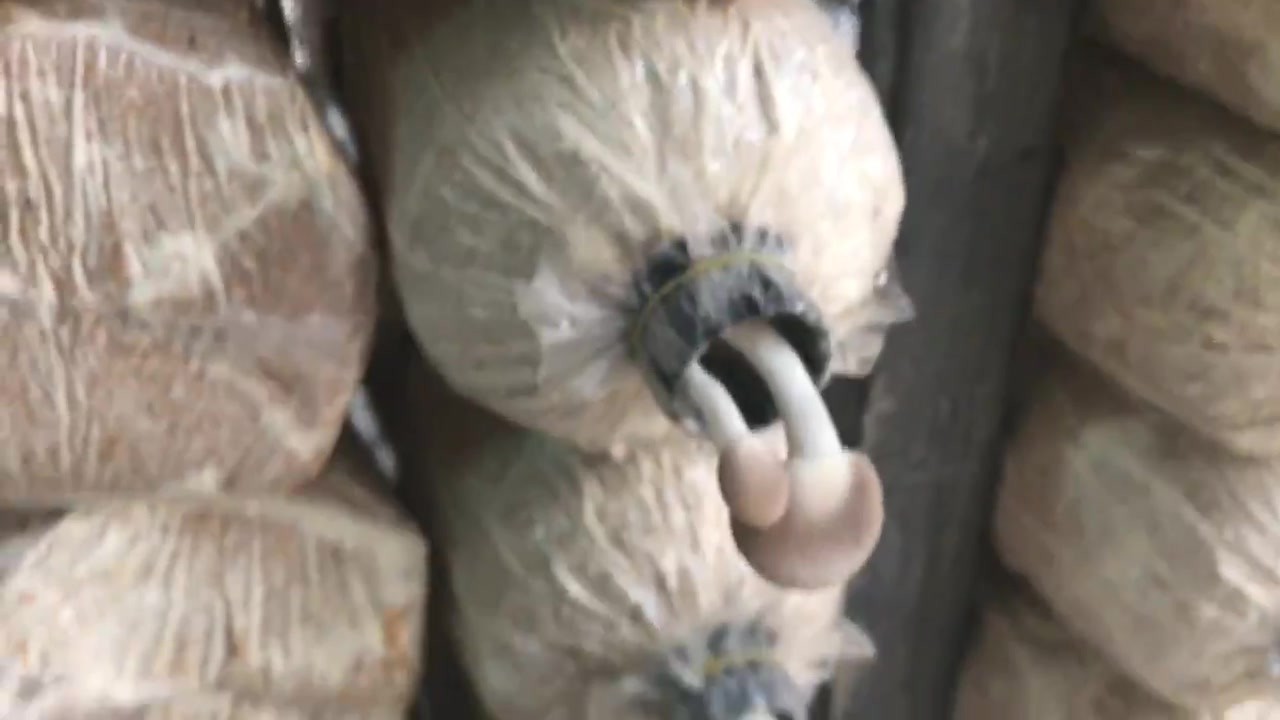nam: (635, 257, 879, 591)
